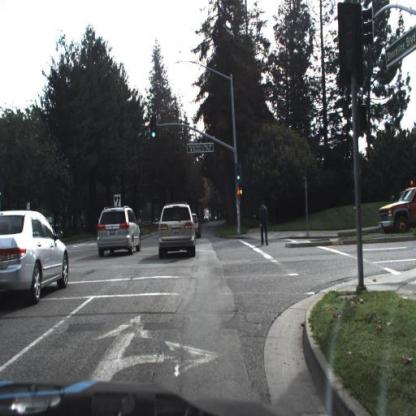car: (1, 208, 78, 321), (96, 207, 143, 258), (159, 202, 197, 259), (373, 186, 416, 235), (381, 185, 416, 240), (192, 212, 206, 246), (192, 209, 202, 241)
pedestrian: (258, 197, 272, 252)
trafficLight-Green: (151, 117, 160, 146), (236, 166, 245, 193), (151, 119, 159, 142)
